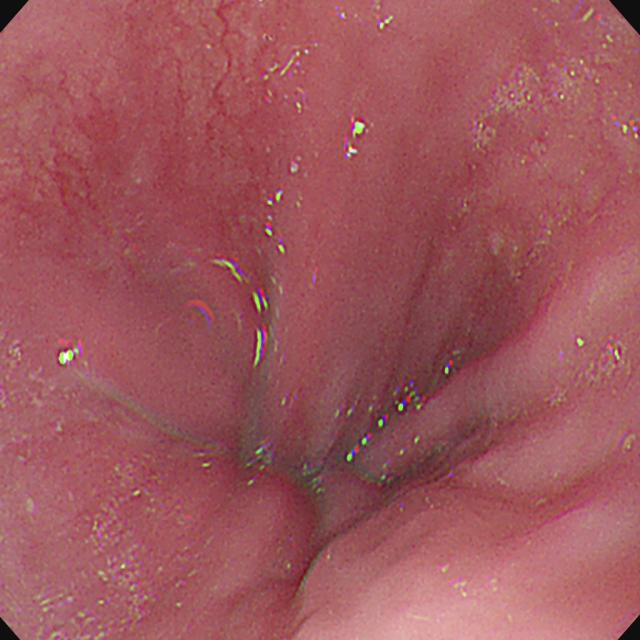U: (394, 378, 428, 414), (343, 115, 370, 160), (215, 256, 251, 286), (347, 435, 373, 466), (57, 339, 85, 367), (253, 323, 268, 366), (252, 287, 271, 314)
